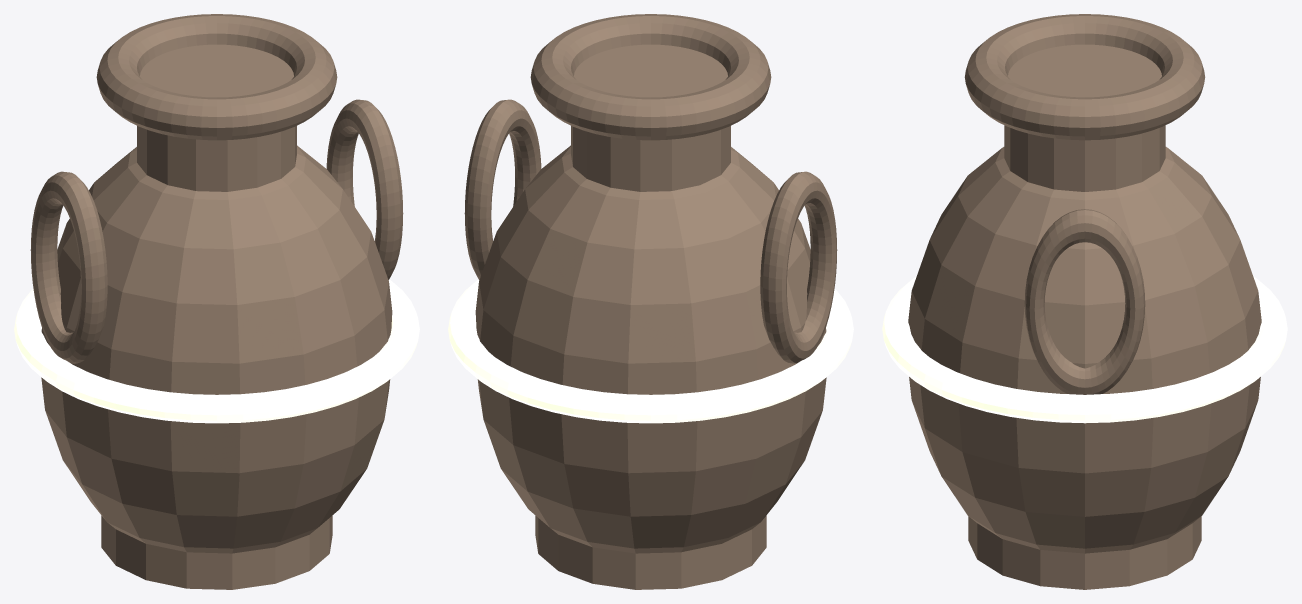
The model's file is MossboundUrn.glb.
3 renders of one model, left to right at view 1: azimuth 30°, elevation 25°; view 2: azimuth 150°, elevation 25°; view 3: azimuth 270°, elevation 25°, orthographic.
Visible parts, largest first — view 1: MossboundUrn; view 2: MossboundUrn; view 3: MossboundUrn.
Boxes of the visible parts, x1,y1,x2,y2 form: MossboundUrn: [14, 14, 419, 589]; MossboundUrn: [448, 14, 853, 589]; MossboundUrn: [882, 14, 1287, 589].
Bounding box in the file's own units: 2.26 × 3.07 × 2.26.
